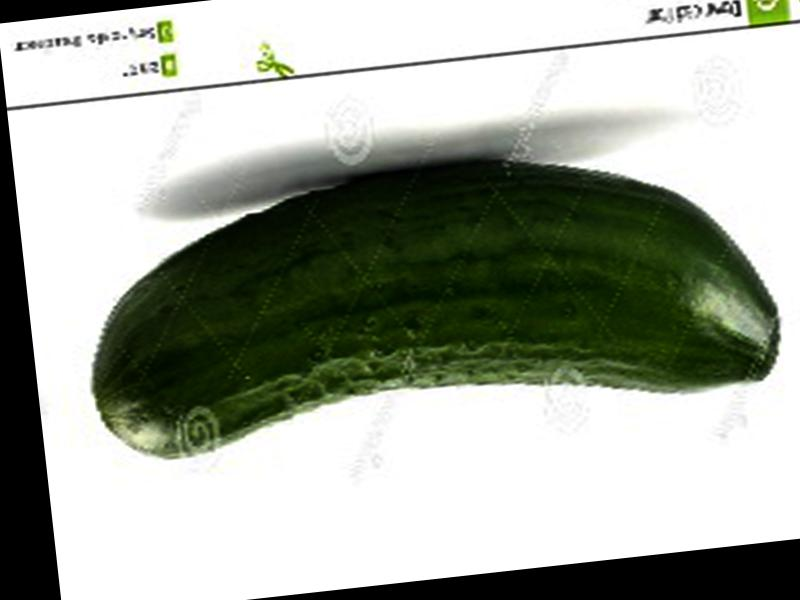Cucumber: (73, 131, 781, 458)
